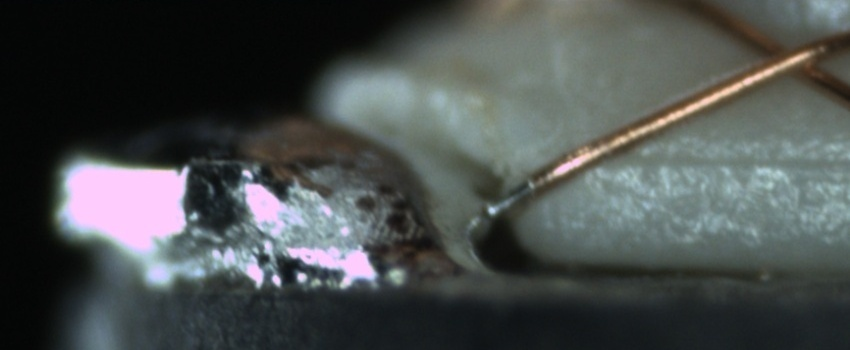CL: (736, 24, 841, 90)
DL: (611, 124, 843, 193)
TS: (483, 178, 536, 217)
TTCW: (479, 161, 566, 219)
